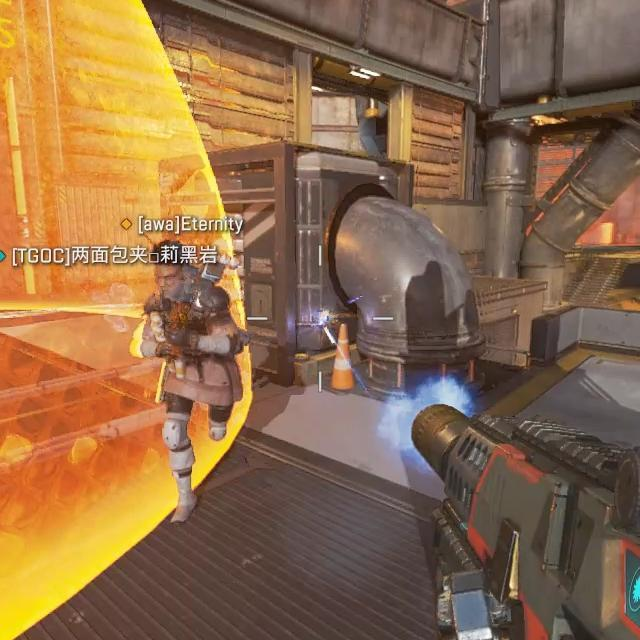avatar: (127, 240, 246, 526)
